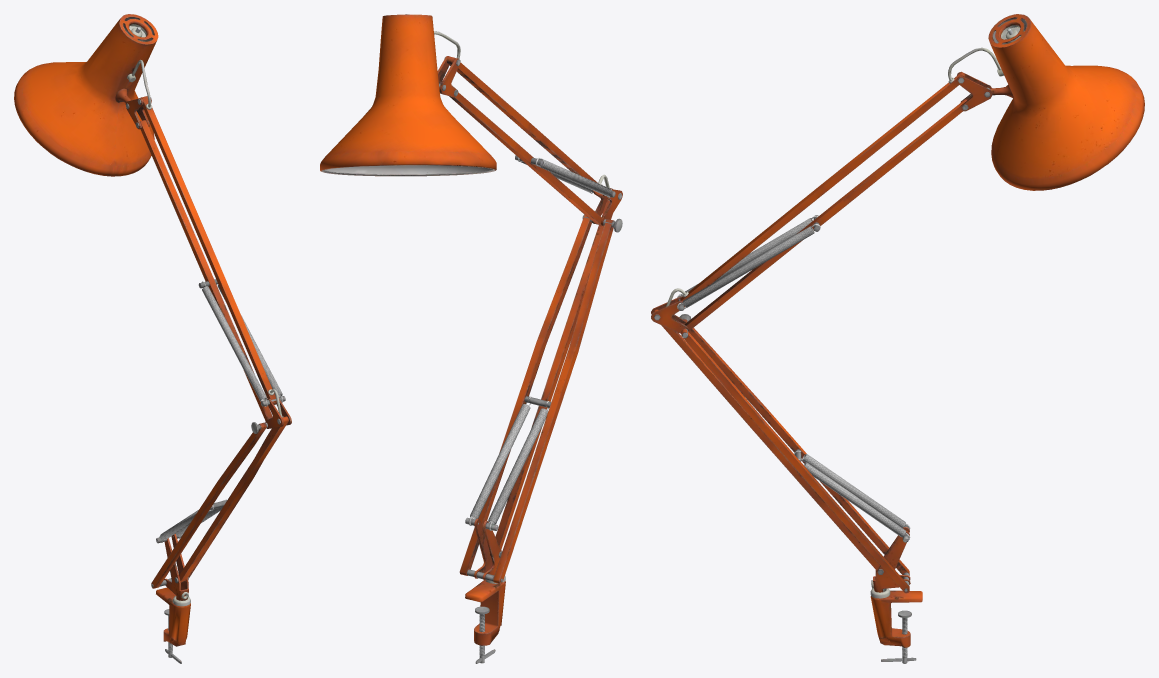
Rendered from desk_lamp_arm_01.glb.
3 renders of one model, left to right at view 1: azimuth 30°, elevation 25°; view 2: azimuth 150°, elevation 25°; view 3: azimuth 270°, elevation 25°, orthographic. The views are drawn at different scales.
Visible parts, largest first — view 1: desk_lamp_arm_01; view 2: desk_lamp_arm_01; view 3: desk_lamp_arm_01.
Boxes of the visible parts, x1,y1,x2,y2 form: desk_lamp_arm_01: (14, 14, 291, 663); desk_lamp_arm_01: (320, 14, 622, 663); desk_lamp_arm_01: (651, 14, 1144, 663).
Size of the model in its own units: 0.2017 by 0.8926 by 0.6139.
Materials: 2 (2 with a texture image).
